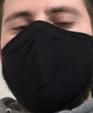with_mask: (2, 1, 93, 113)
